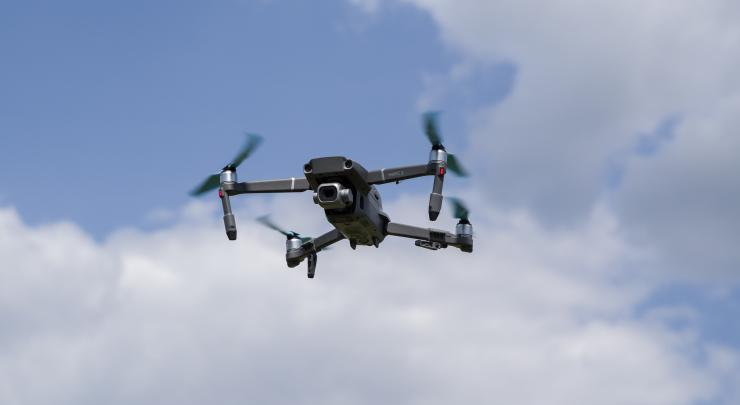drone: (192, 109, 473, 279)
